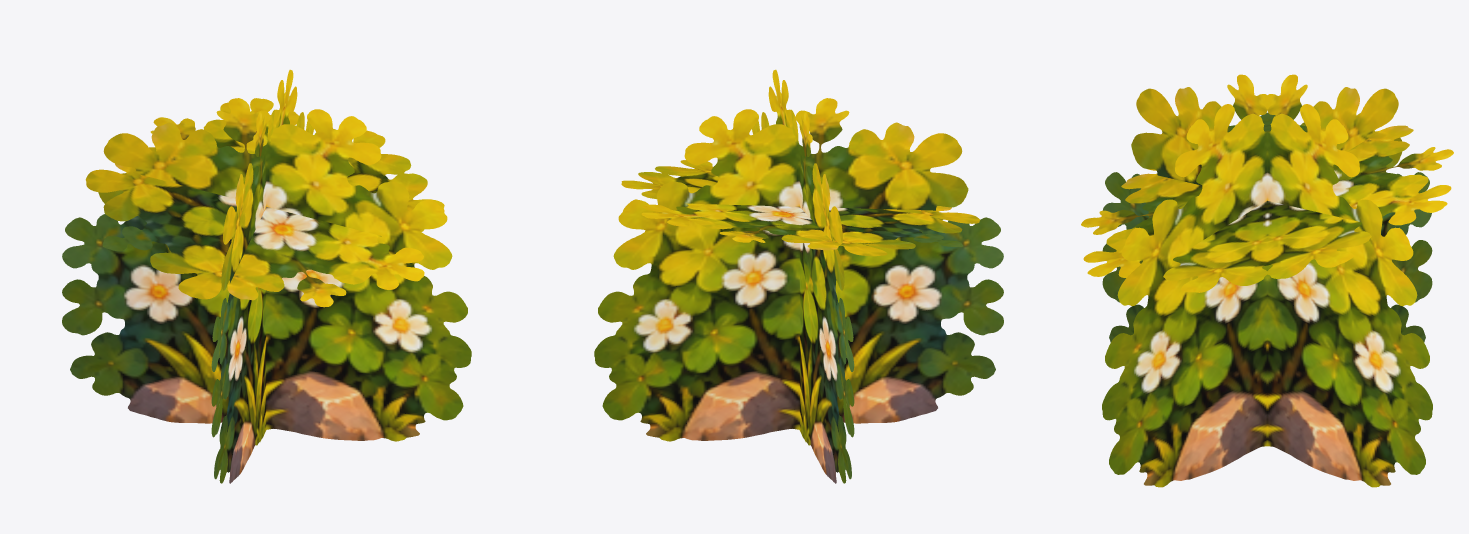
File: Bush2.fbx
3 views of the same model, side by side, from view 1: azimuth 30°, elevation 25°; view 2: azimuth 150°, elevation 25°; view 3: azimuth 270°, elevation 25° (orthographic). The views are drawn at different scales.
Parts seen in each view (by area): view 1: Bush2_Body; view 2: Bush2_Body; view 3: Bush2_Body.
Part boxes in pixels (left/top/right/bottom): Bush2_Body: left=62, top=69, right=471, bottom=483; Bush2_Body: left=594, top=69, right=1003, bottom=483; Bush2_Body: left=1081, top=74, right=1453, bottom=487.
Bounding box in the file's own units: 1 × 0.95 × 0.8803.
Materials: 1 (1 with a texture image).
